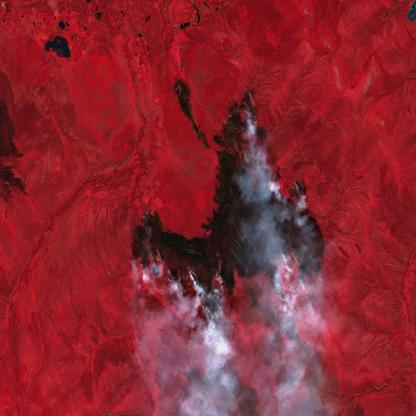fire: (126, 85, 324, 323)
